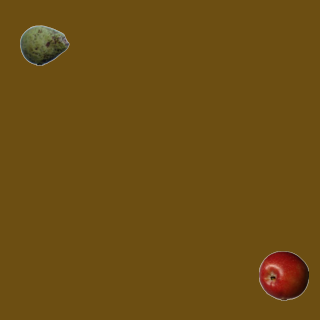Apple Braeburn: (258, 250, 308, 300)
Pear Stone: (19, 20, 69, 70)
